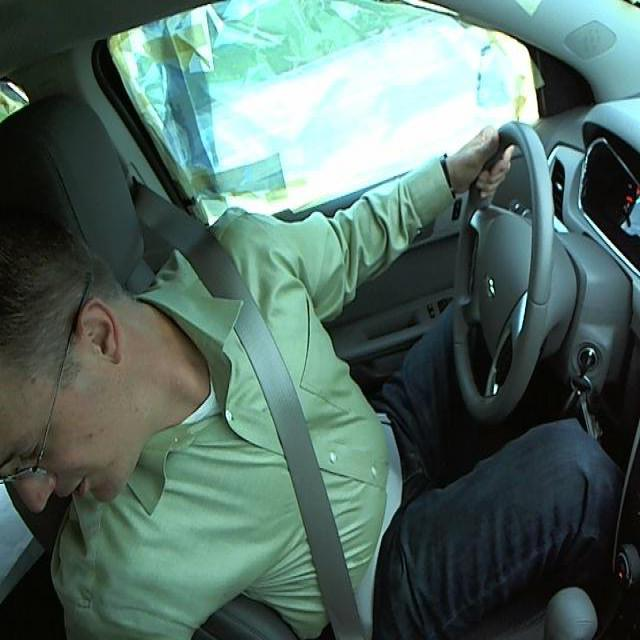seatbelt: (194, 276, 406, 625)
